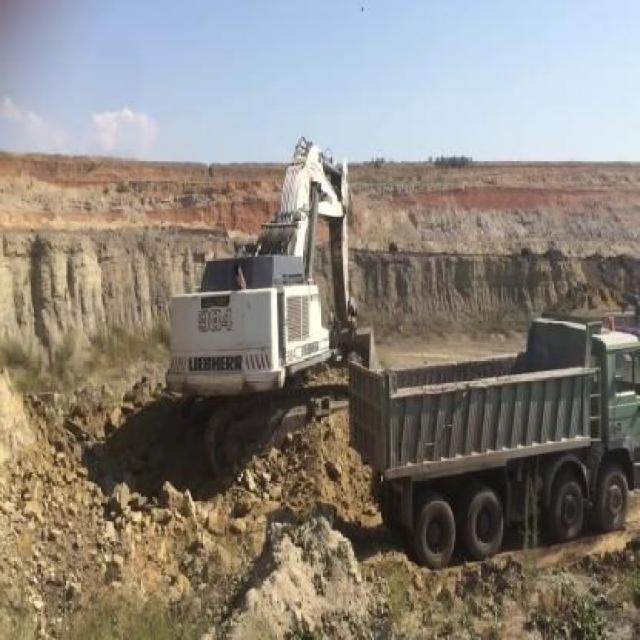dump truck: (346, 304, 639, 568)
excavator: (157, 132, 360, 473)
